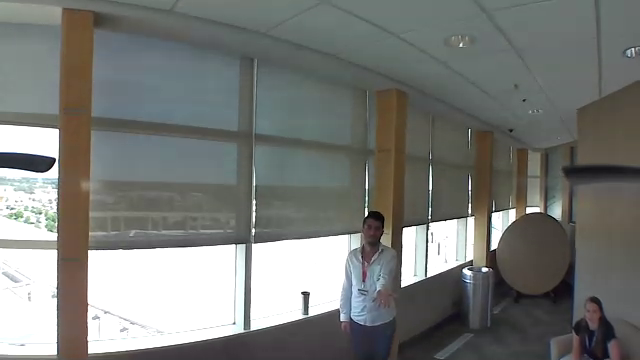land: (368, 285, 399, 309)
